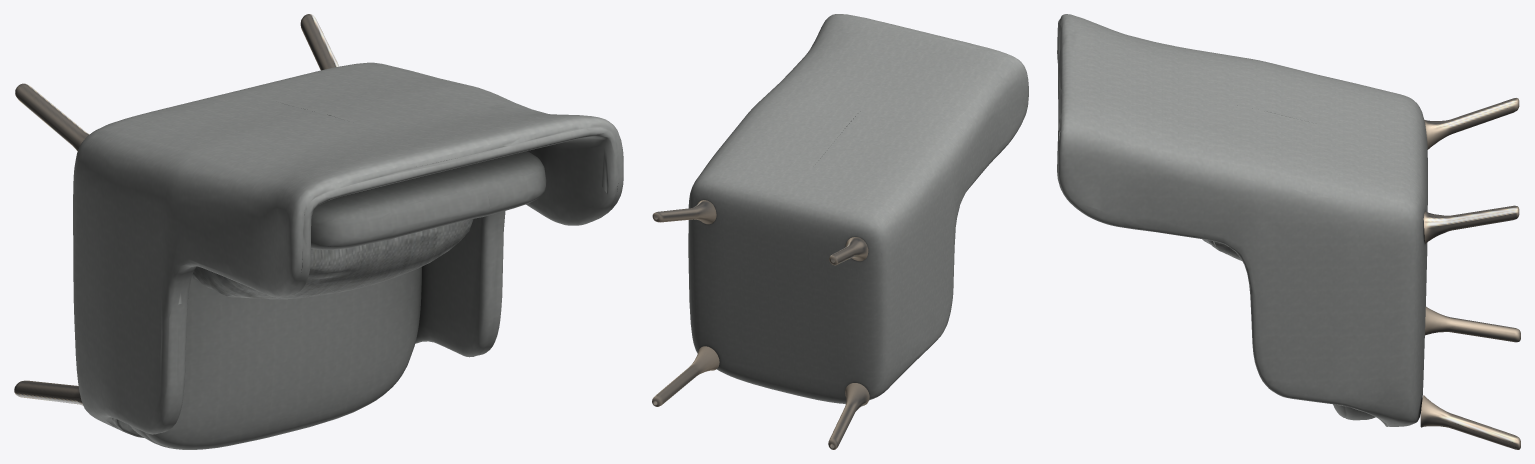
The model's file is raw_model.glb.
The picture shows the model from 3 angles, left to right: view 1: azimuth 30°, elevation 25°; view 2: azimuth 150°, elevation 25°; view 3: azimuth 270°, elevation 25°; orthographic projection. The views are drawn at different scales.
Parts seen in each view (by area): view 1: raw_model.011; view 2: raw_model.011; view 3: raw_model.011.
Boxes of the visible parts, bbox=[...] form: raw_model.011: bbox=[14, 14, 623, 449]; raw_model.011: bbox=[652, 14, 1028, 449]; raw_model.011: bbox=[1057, 14, 1520, 449].
Bounding box in the file's own units: 0.6411 × 0.7714 × 0.979.
1 material, 1 textured.
